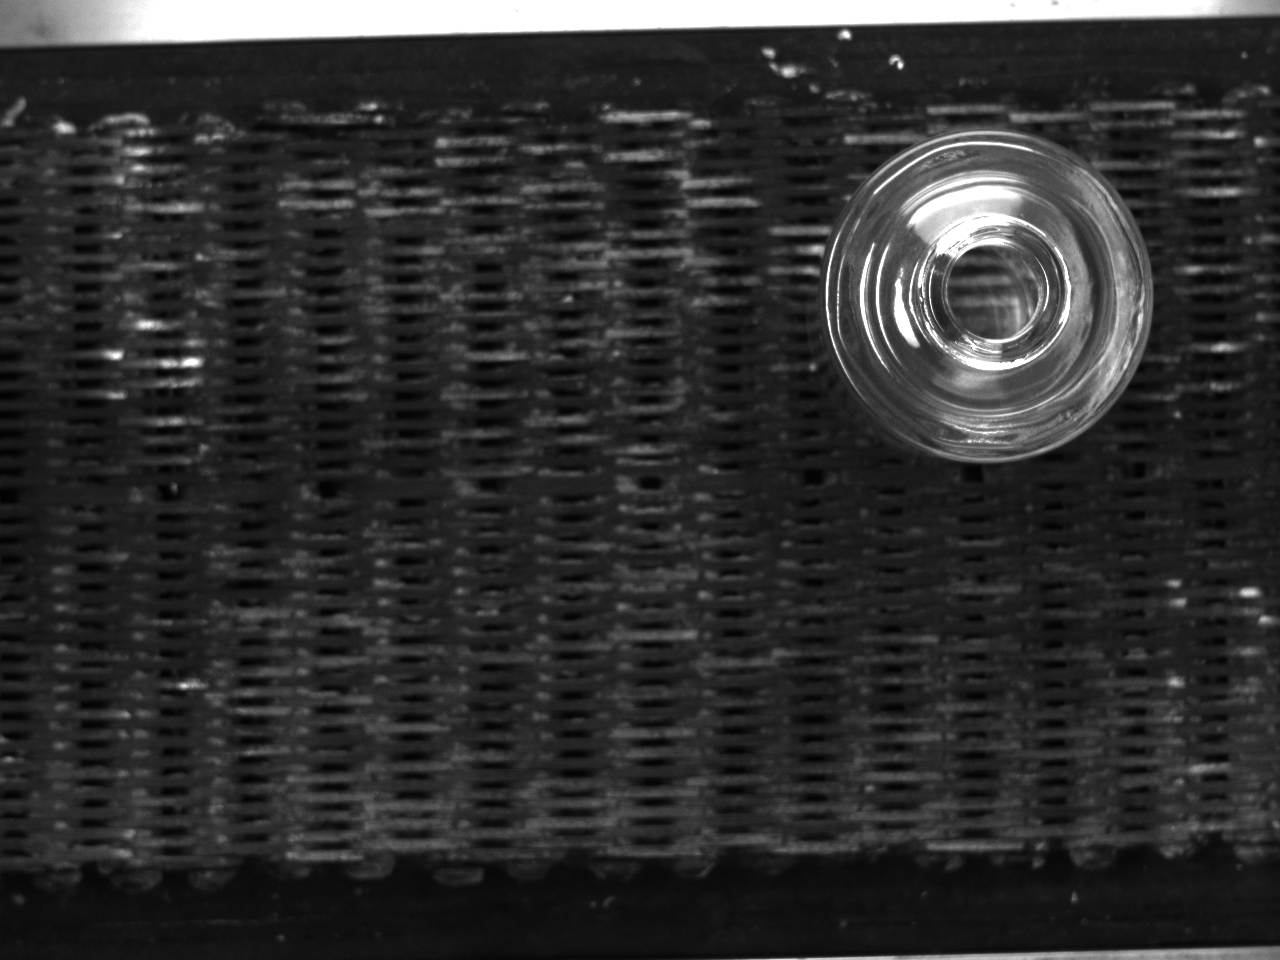bottleneck: (919, 214, 1071, 369)
